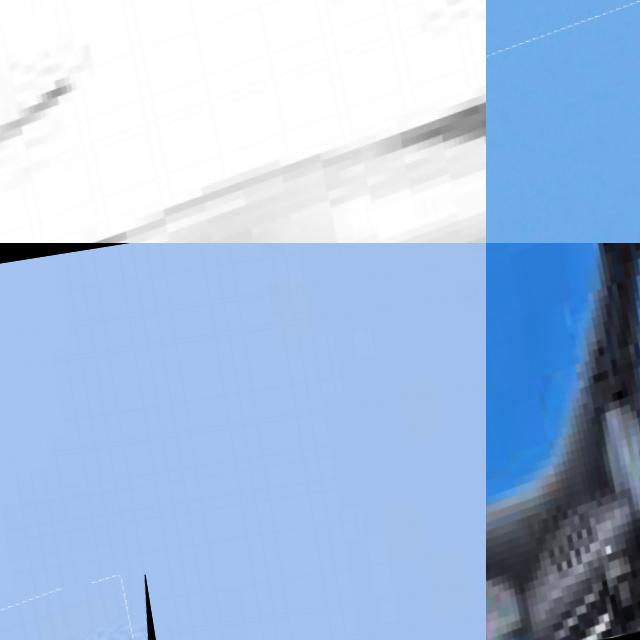drone: (0, 0, 486, 243), (486, 243, 640, 640), (486, 0, 640, 243), (0, 574, 186, 640)
